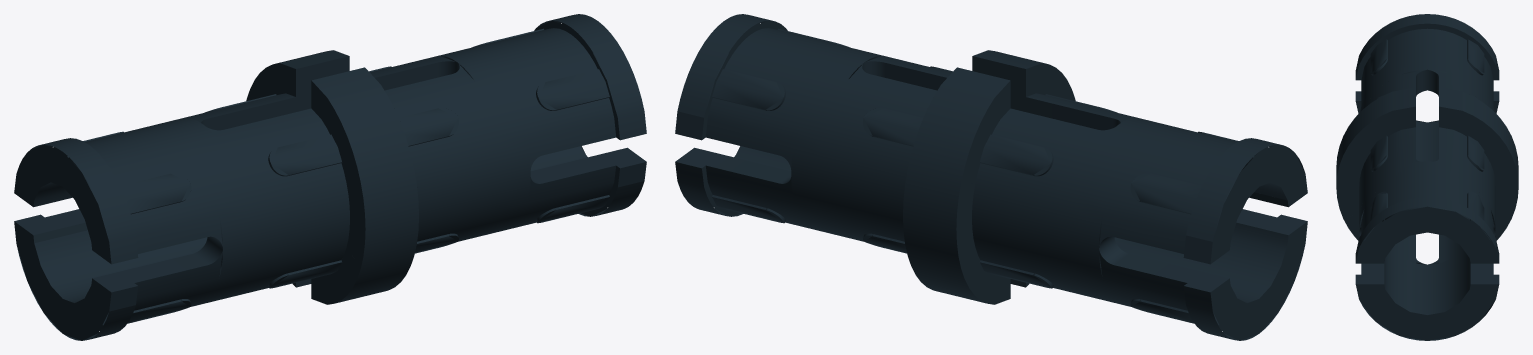
The model's file is pin_friction.glb.
3 renders of one model, left to right at view 1: azimuth 30°, elevation 25°; view 2: azimuth 150°, elevation 25°; view 3: azimuth 270°, elevation 25°, orthographic. The views are drawn at different scales.
Parts seen in each view (by area): view 1: 2780.dat; view 2: 2780.dat; view 3: 2780.dat.
Boxes of the visible parts, bbox=[...] form: 2780.dat: bbox=[14, 14, 646, 340]; 2780.dat: bbox=[675, 14, 1307, 340]; 2780.dat: bbox=[1336, 14, 1518, 340].
Bounding box in the file's own units: 0.8 × 0.312 × 0.32.
